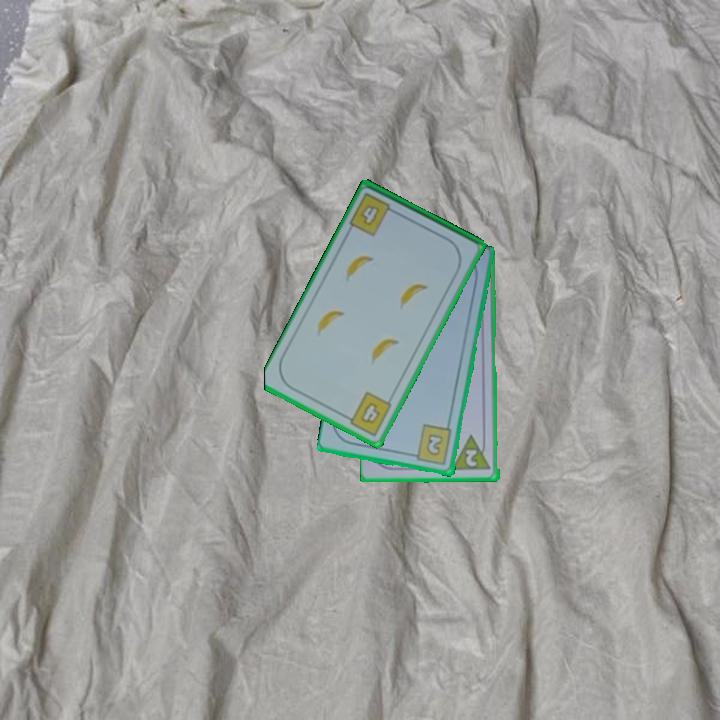2b: (407, 422, 455, 468)
2p: (451, 432, 494, 473)
4b: (341, 388, 395, 439), (346, 189, 401, 239)
